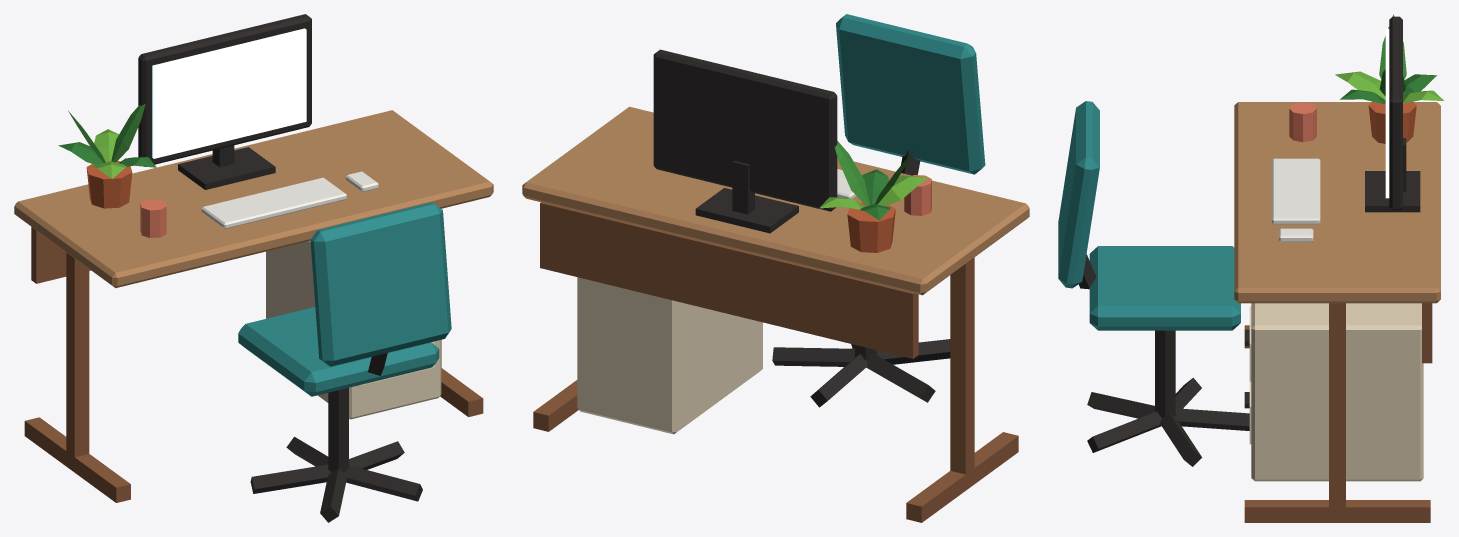
File: seat_desk_v2.glb
The picture shows the model from 3 angles, left to right: view 1: azimuth 30°, elevation 25°; view 2: azimuth 150°, elevation 25°; view 3: azimuth 270°, elevation 25°; orthographic projection. The views are drawn at different scales.
Visible parts, largest first — view 1: body, screen; view 2: body; view 3: body, screen.
Part boxes in pixels (box(x1,y1,x2,y2)): body: box(14, 14, 493, 522); screen: box(152, 28, 306, 158); body: box(522, 14, 1029, 522); body: box(1058, 14, 1443, 522); screen: box(1385, 29, 1389, 198).
Bounding box in the file's own units: 1.3 × 1.2 × 1.12.
